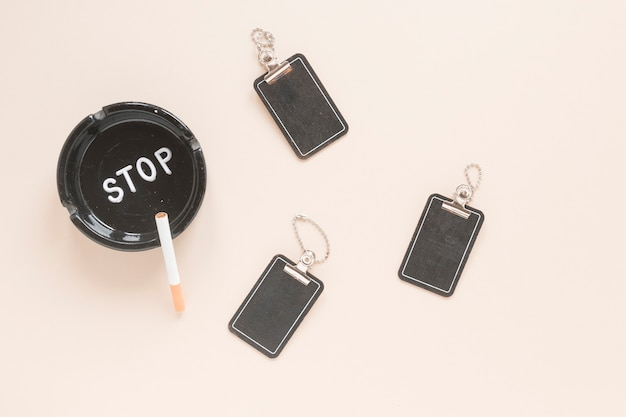cigarette: (154, 210, 185, 311)
